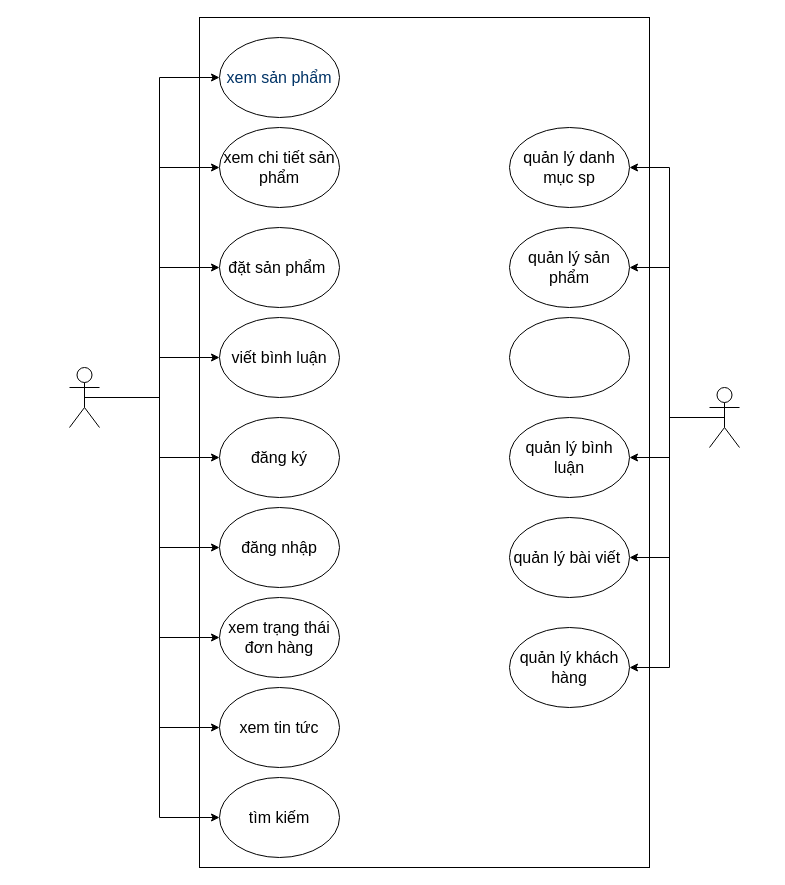
This 785x885 diagram has some shape labels left out. Here are the shapes that lost their labels. From the top down, the box of each, then its label:
(508, 316, 630, 398): quản lý đơn hàng
(68, 366, 100, 428): khách hàng
(708, 386, 740, 448): quản trị
